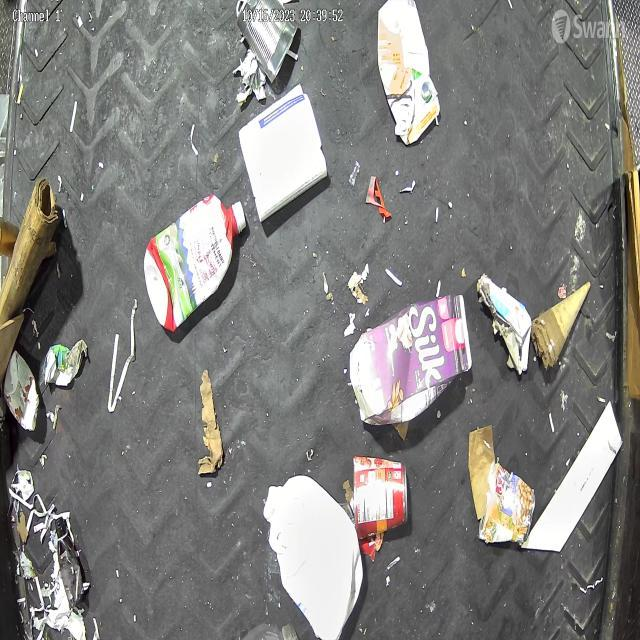can: (346, 446, 414, 543), (232, 0, 308, 79)
milk_jug: (258, 455, 366, 640)
